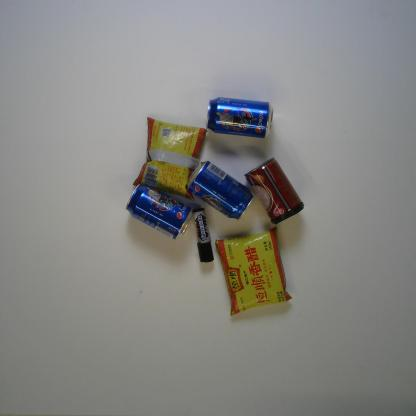Canned Food: (243, 156, 305, 225)
Drink: (185, 160, 255, 221), (124, 183, 193, 241), (205, 97, 274, 139)
Seasoner: (215, 225, 292, 317), (132, 116, 208, 202)
Stationery: (192, 207, 214, 264)
